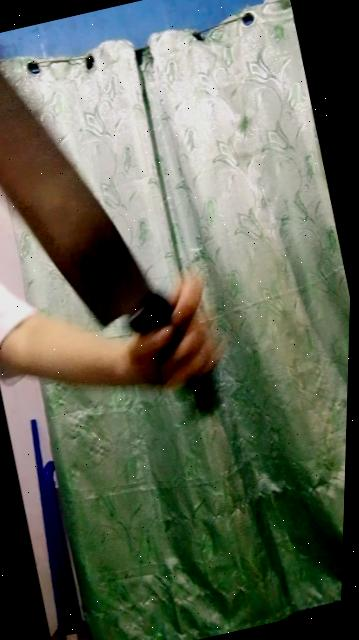long knife: (0, 0, 241, 458)
